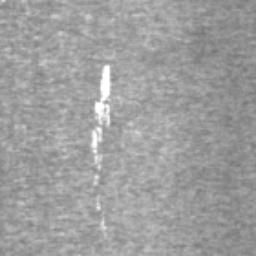White rust: (90, 63, 111, 171), (96, 194, 101, 211), (93, 174, 100, 185)
